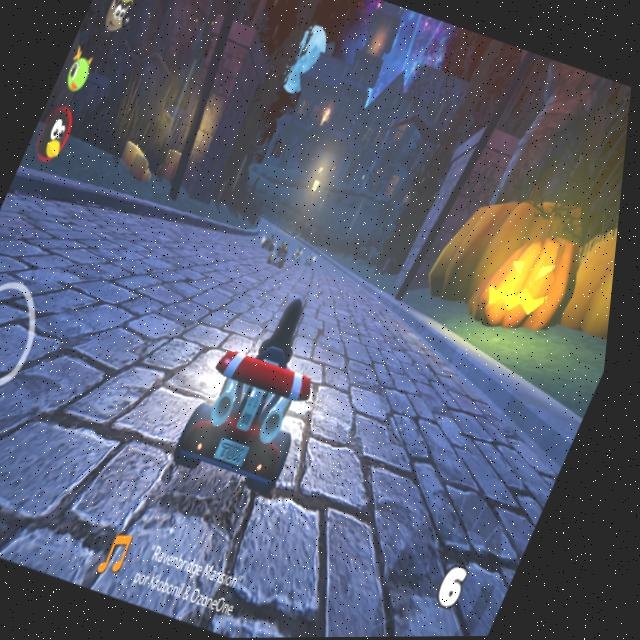enemy_kart: (267, 239, 298, 271), (308, 252, 324, 271), (295, 246, 311, 264)
player_kart: (170, 287, 354, 509)
